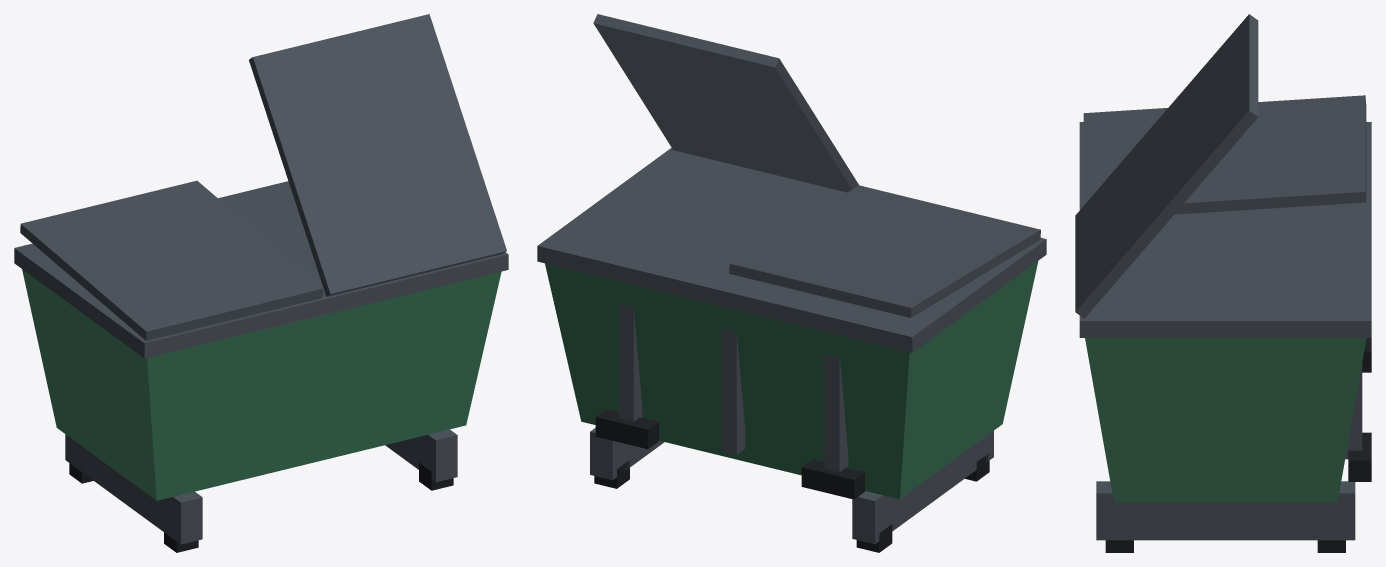
The model's file is dumpster.glb.
3 renders of one model, left to right at view 1: azimuth 30°, elevation 25°; view 2: azimuth 150°, elevation 25°; view 3: azimuth 270°, elevation 25°, orthographic. The views are drawn at different scales.
Visible parts, largest first — view 1: Body; view 2: Body; view 3: Body.
Boxes of the visible parts, x1,y1,x2,y2 form: Body: [14, 14, 508, 552]; Body: [537, 14, 1046, 552]; Body: [1075, 14, 1371, 552].
Size of the model in its own units: 2 by 2.18 by 1.26.
